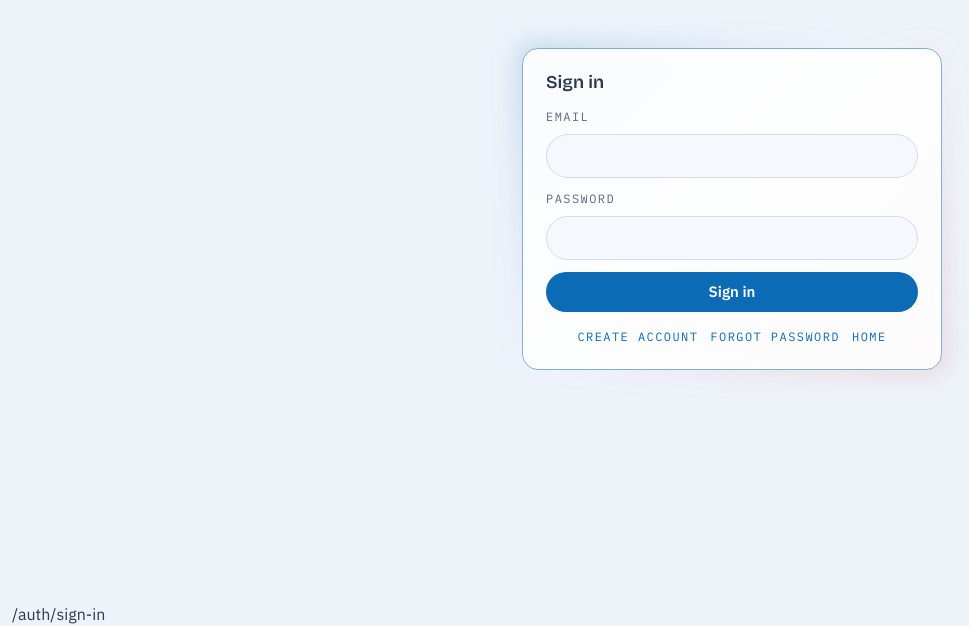
SignInPage › does not complete the intent when the sign-in fails
Type "a@e.com" into the field labelled "Email" at x=732, y=156, box [546,134,918,178]
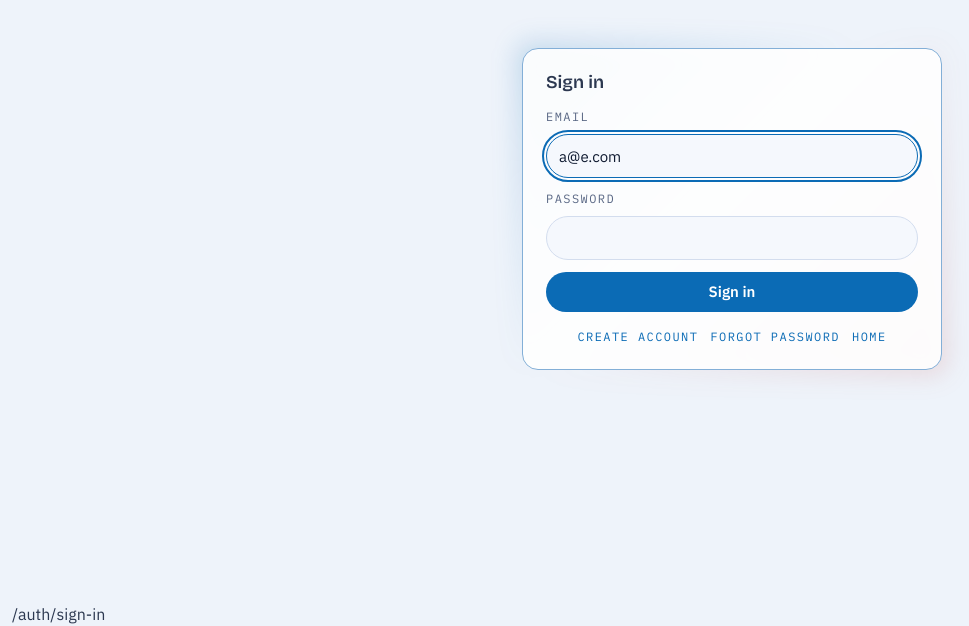
Type "hunter22hunter" into the password field labelled "Password" at x=732, y=238, box [546,216,918,260]
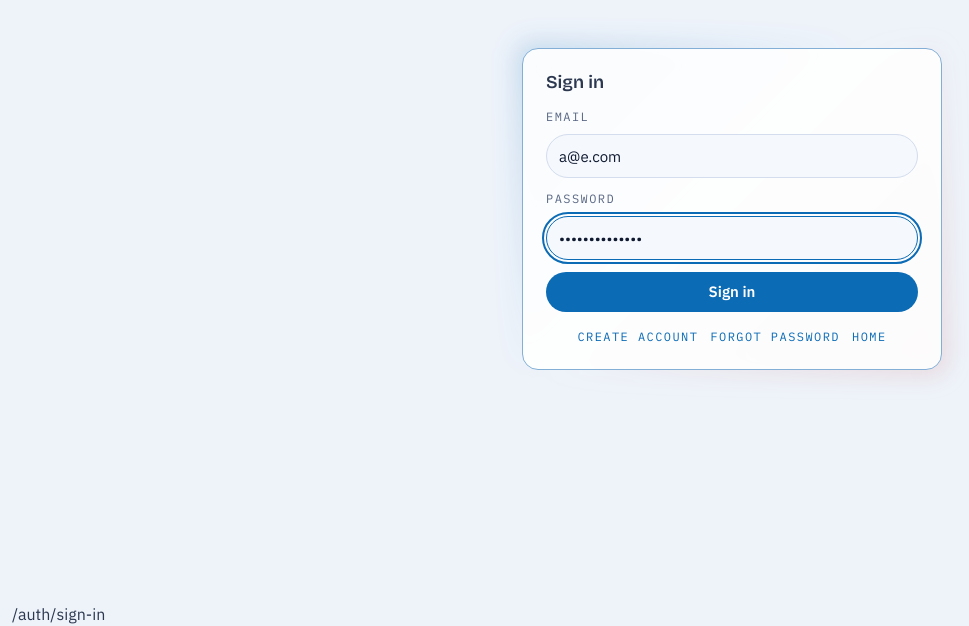
Click the button with test id "auth-submit" at x=732, y=292, box [546,272,918,312]
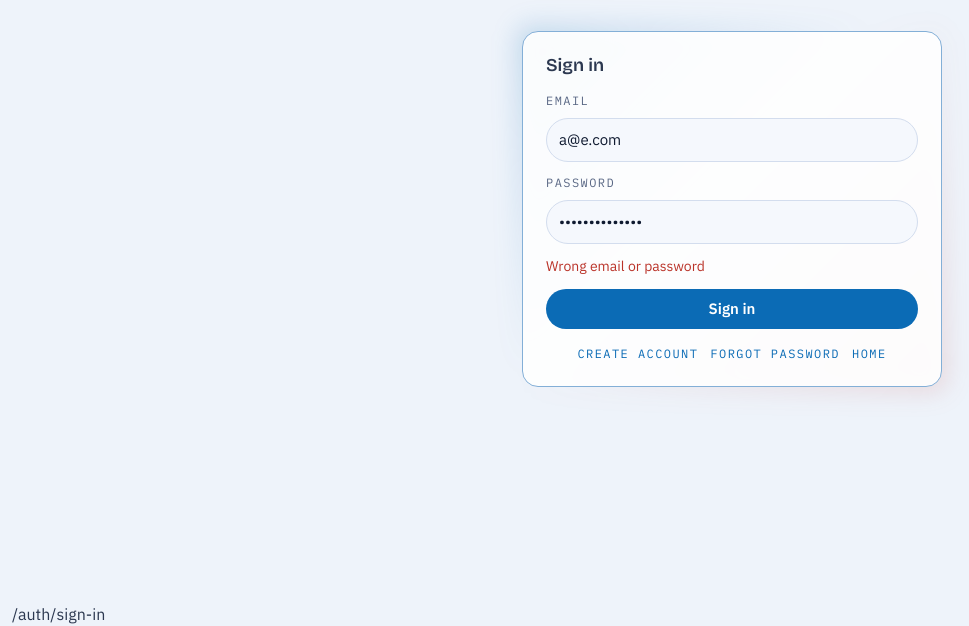
Result: the message "Wrong email or password" is shown at [546,257,705,275]
